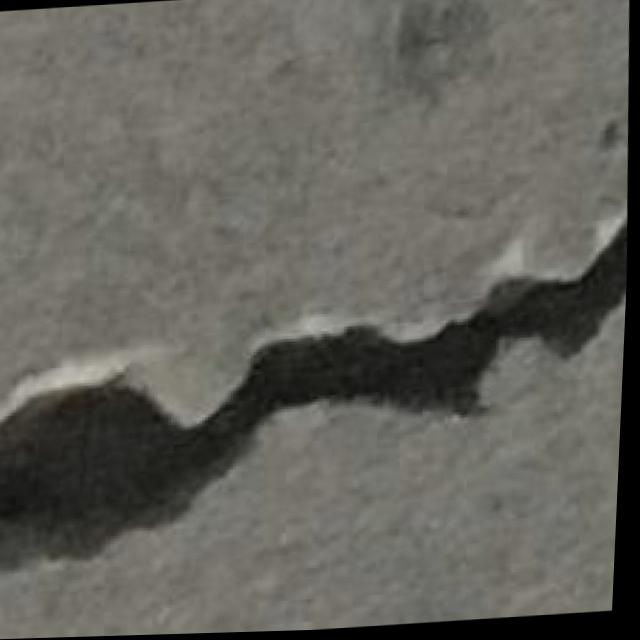Crack: (0, 224, 632, 574)
